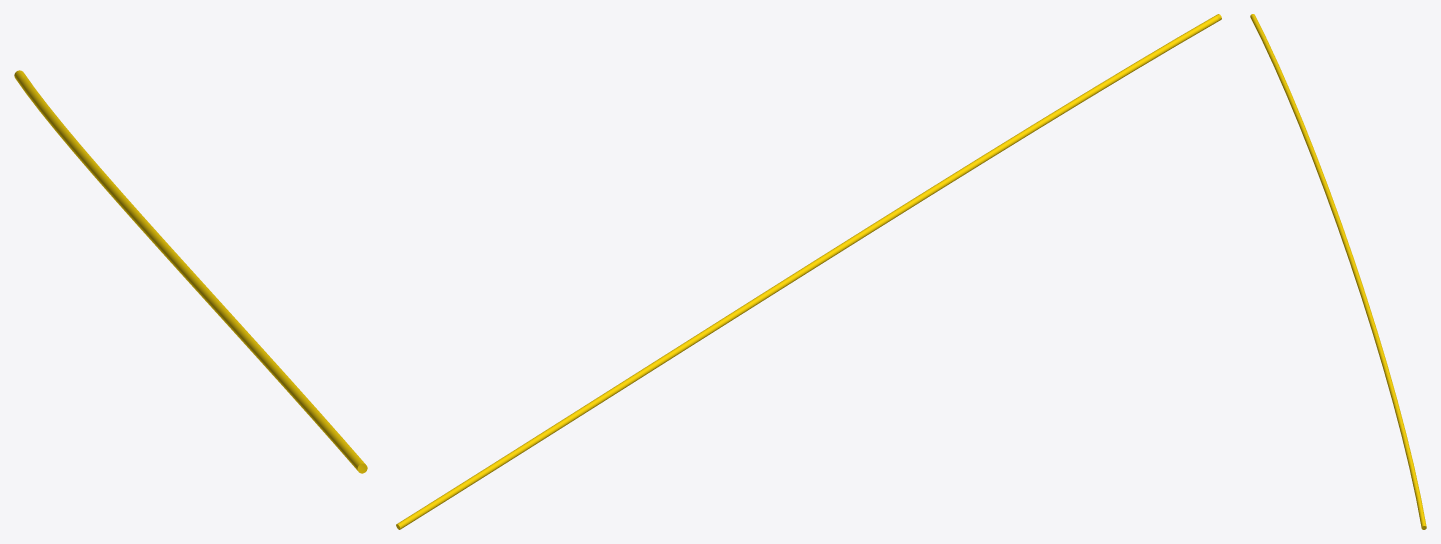
File: Event_420107950_track_41.fbx
3 renders of one model, left to right at view 1: azimuth 90°, elevation 25°; view 2: azimuth 210°, elevation 25°; view 3: azimuth 270°, elevation 25°, orthographic. The views are drawn at different scales.
Parts seen in each view (by area): view 1: Model; view 2: Model; view 3: Model.
Part boxes in pixels (x1,y1,x2,y2): Model: [14, 70, 367, 473]; Model: [396, 14, 1221, 529]; Model: [1250, 14, 1426, 529].
Size of the model in its own units: 6.45 by 1.37 by 1.36.
